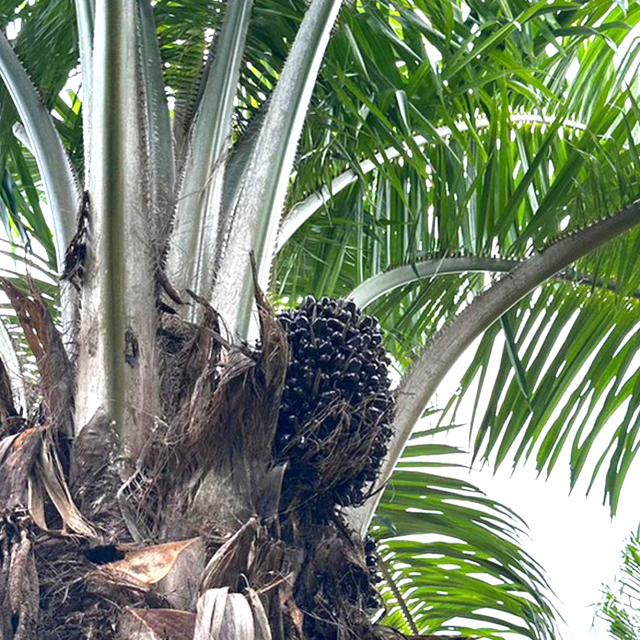unripe: (253, 285, 410, 525)
